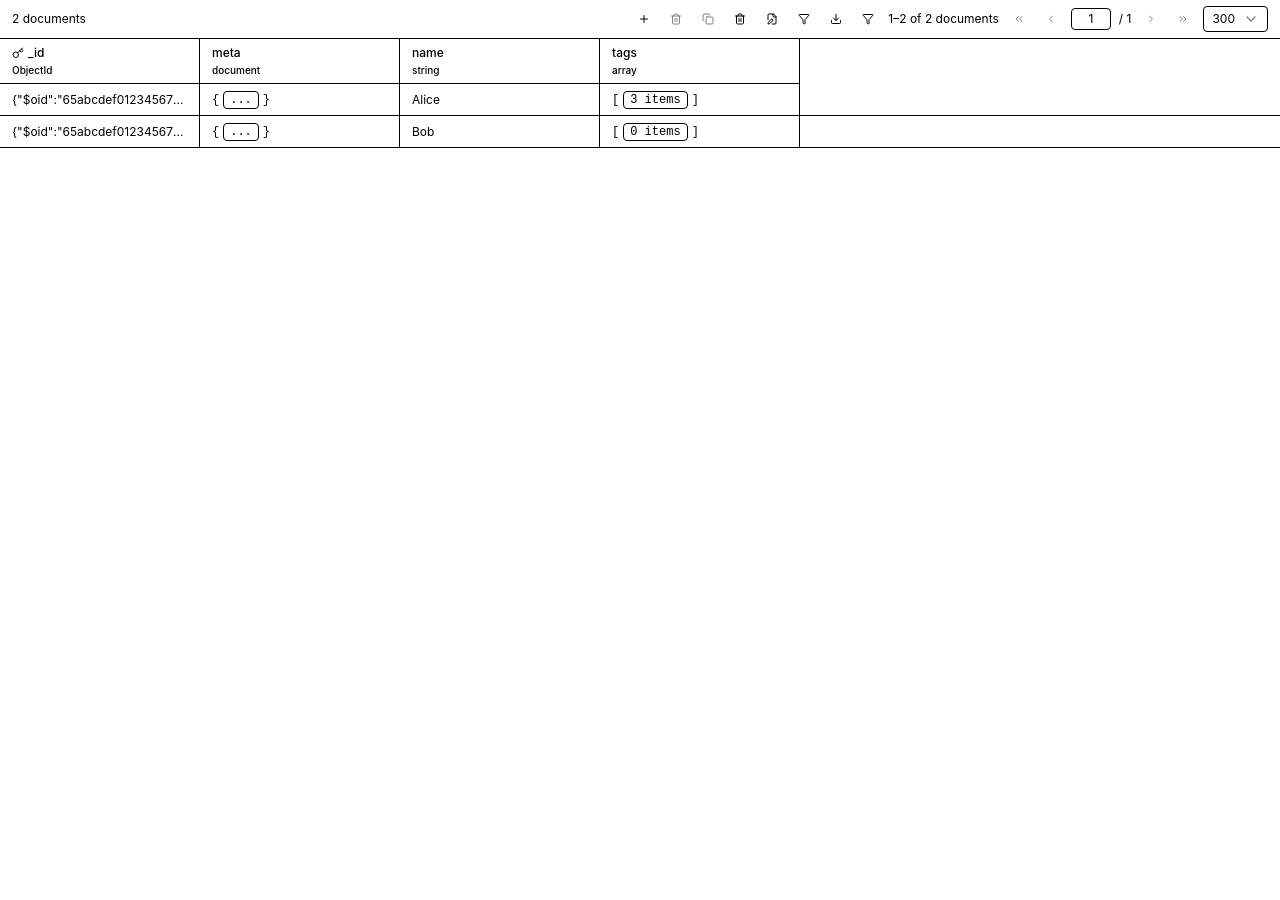
DocumentDataGrid › Commit button opens the MQL preview modal with the generated command lines
Note: Stage an edit: Alice → Ada on the `name` column.
Double-click the text "Alice" at (426,100), box x1=412 y1=92 x2=440 y2=108
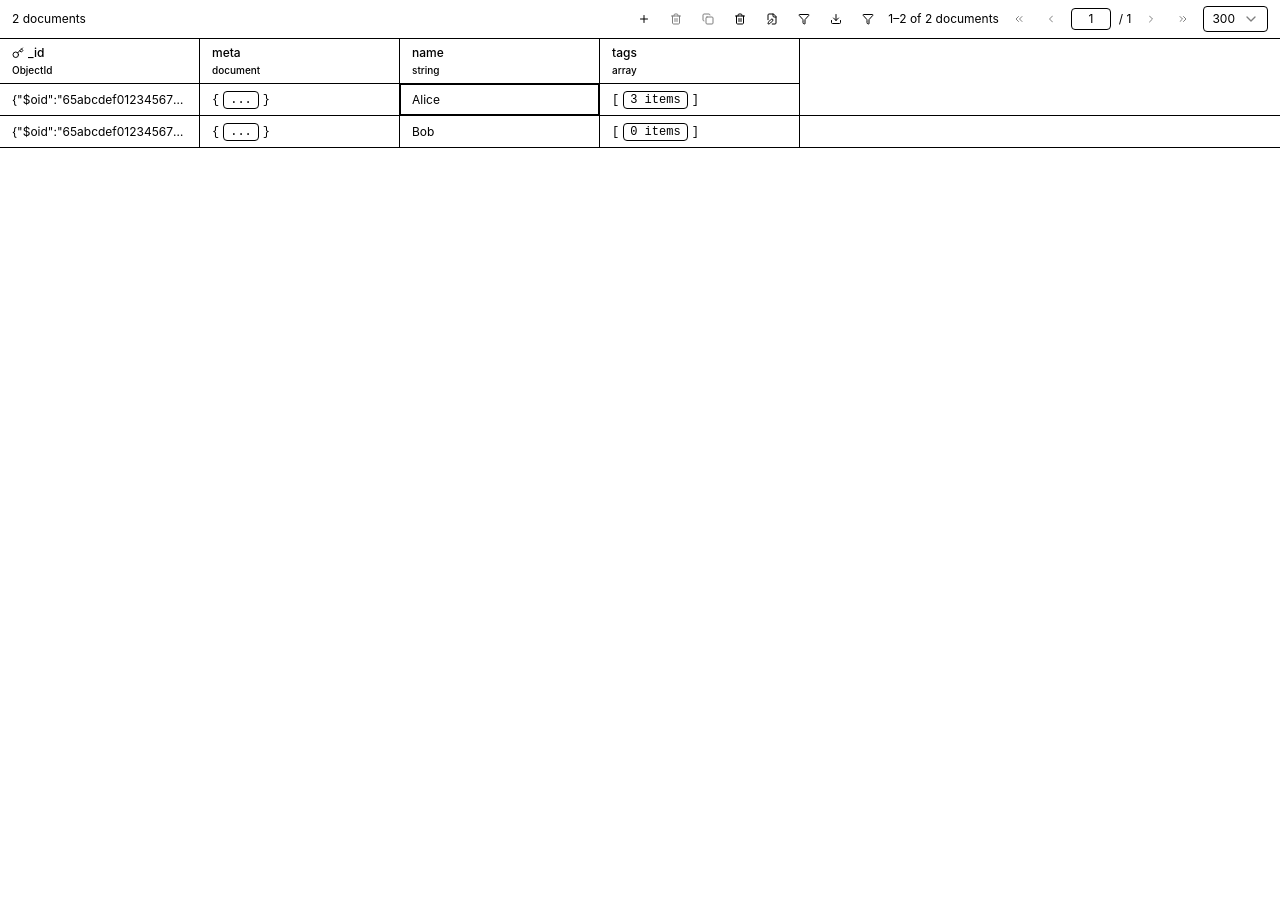
Replace the text in the field named "Editing name" with "Ada". click: (500,100)
box: x1=412 y1=92 x2=587 y2=108
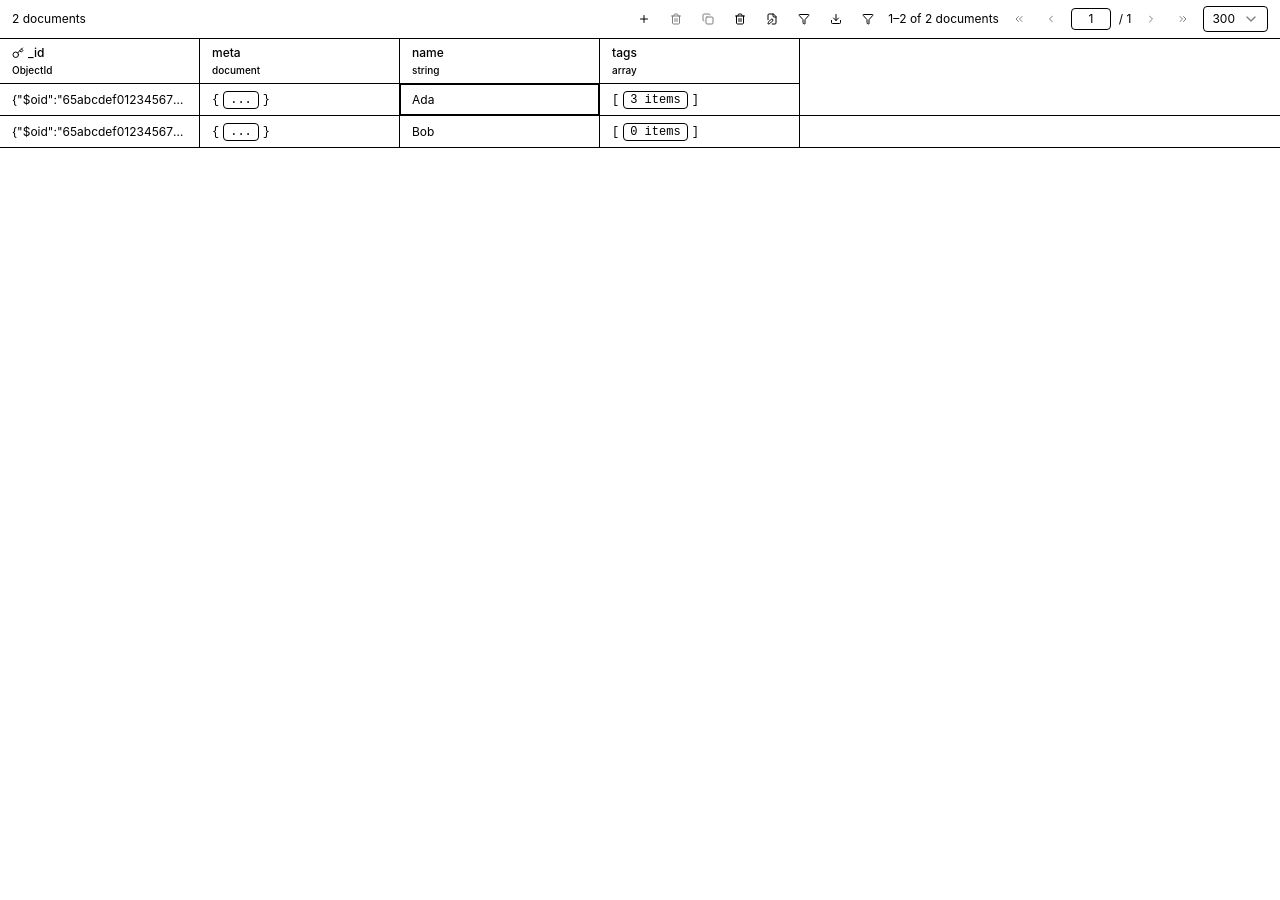
Press Enter in the field named "Editing name", box x1=412 y1=92 x2=587 y2=108
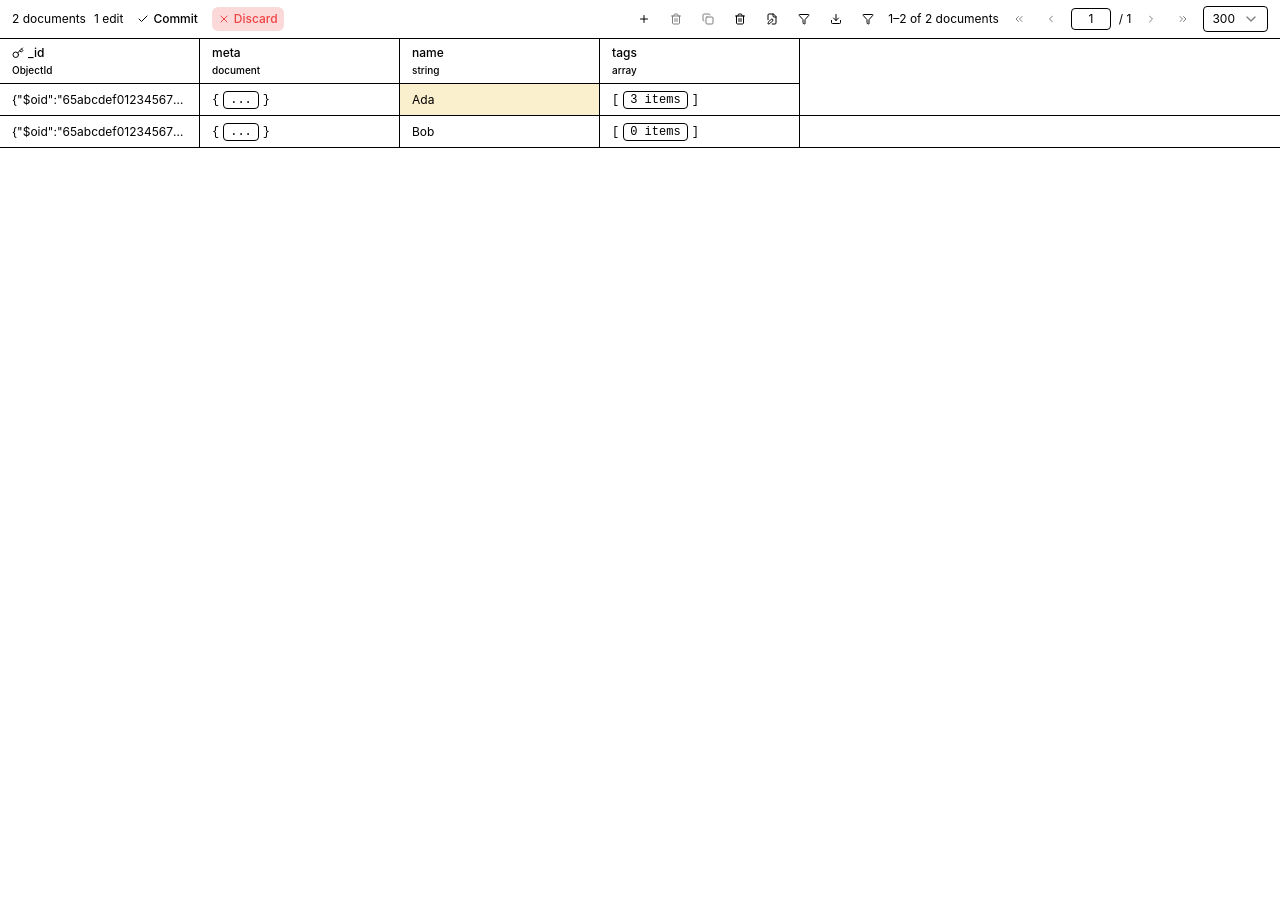
Click the button with aria-label "Commit changes". click: (168,19)
box: x1=131 y1=7 x2=204 y2=31
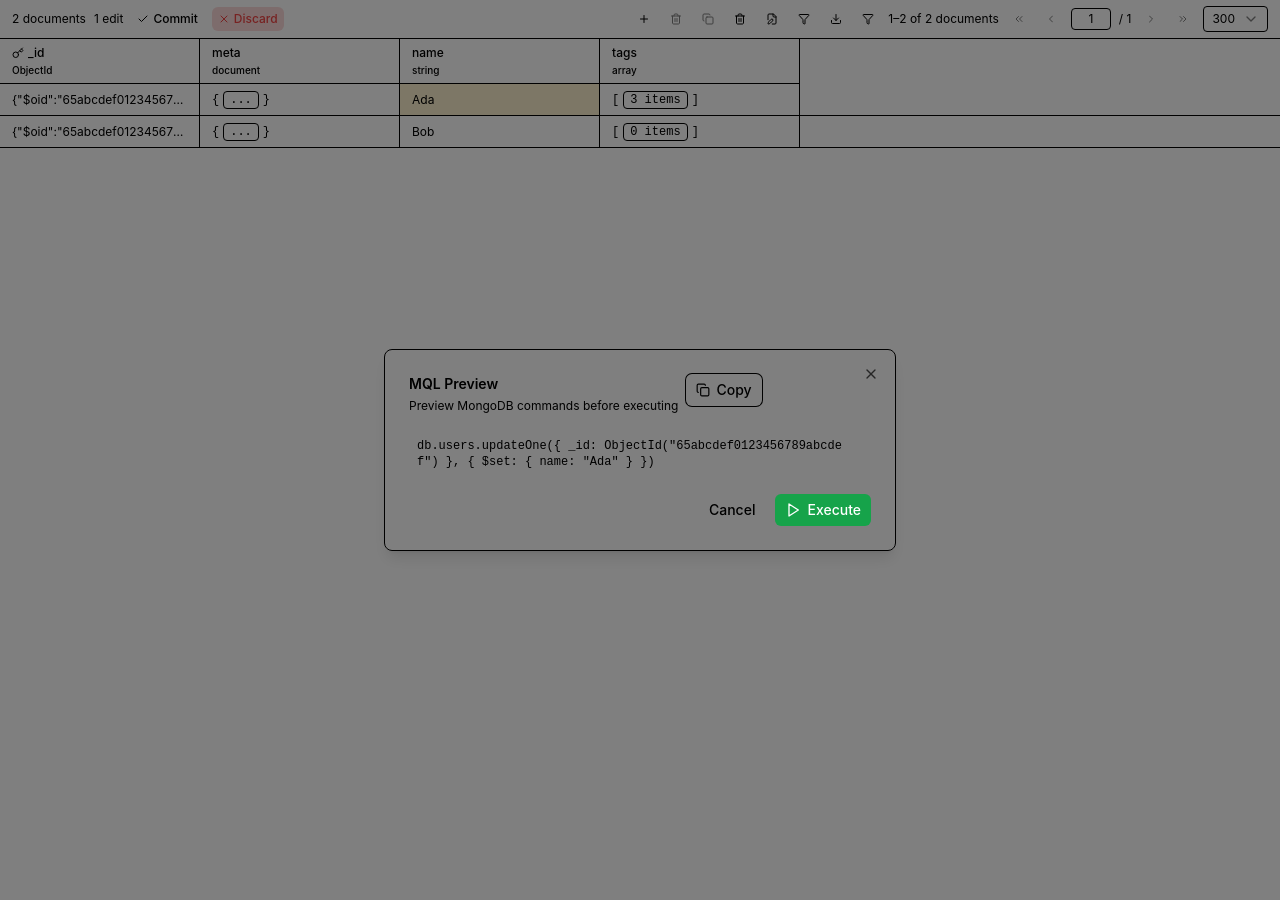
Check: the text named "MQL commands" shows "db.users.updateOne", box x1=417 y1=439 x2=842 y2=469
